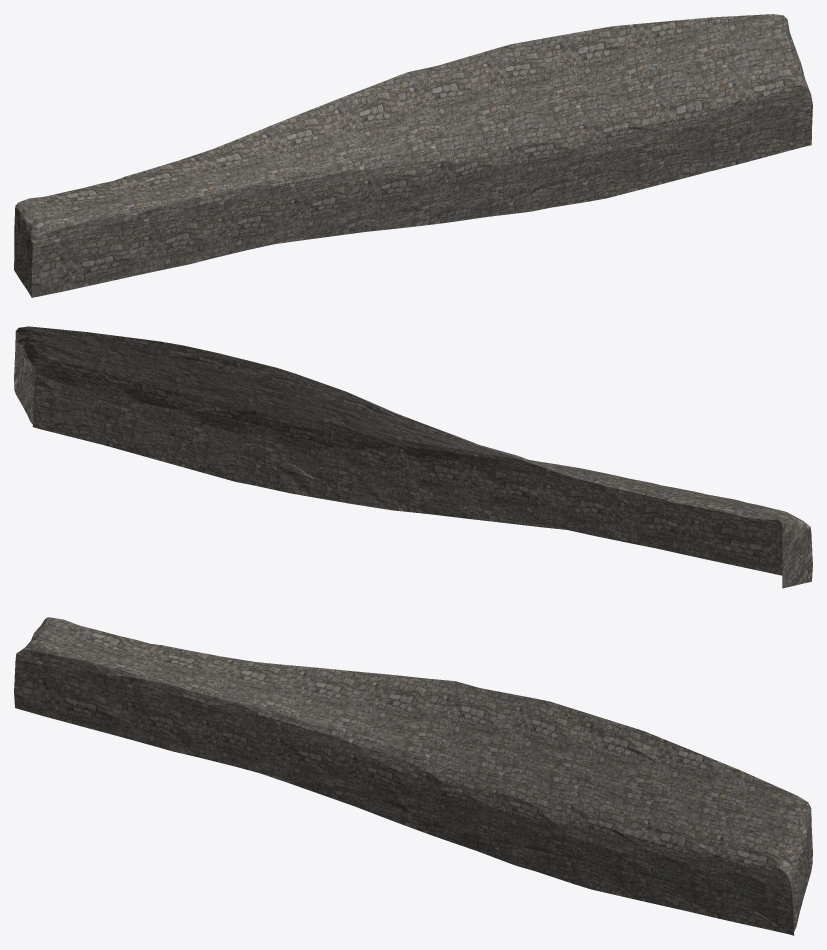
The picture shows the model from 3 angles, top to bottom: view 1: azimuth 30°, elevation 25°; view 2: azimuth 150°, elevation 25°; view 3: azimuth 330°, elevation 25°; orthographic projection.
Bounding box in the file's own units: 50.56 × 9.34 × 4.06.
Materials: 1 (1 with a texture image).
